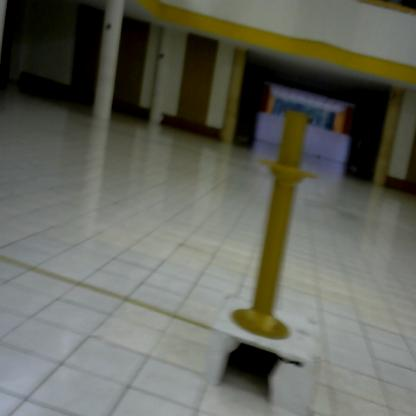pole: (232, 108, 331, 348)
